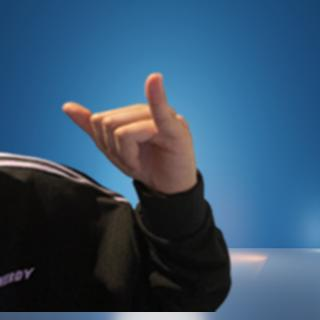HAVE: (55, 66, 200, 195)
